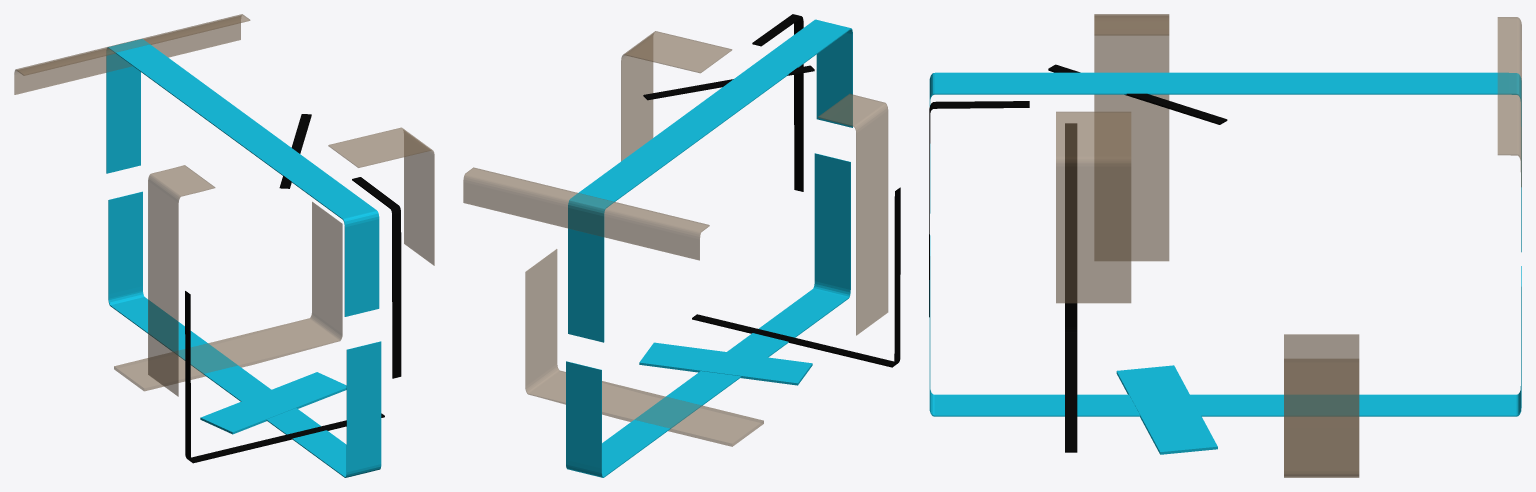
File: tape_open_6.fbx
3 renders of one model, left to right at view 1: azimuth 30°, elevation 25°; view 2: azimuth 150°, elevation 25°; view 3: azimuth 270°, elevation 25°, orthographic. The views are drawn at different scales.
Visible parts, largest first — view 1: tape_0.019, 평면.075, 평면.071, 평면.054, 평면.072, 평면.077, 평면.074, 평면.073, 평면.076; view 2: tape_0.019, 평면.075, 평면.072, 평면.071, 평면.054, 평면.077, 평면.073, 평면.074, 평면.076; view 3: tape_0.019, 평면.071, 평면.054, 평면.075, 평면.077, 평면.073, 평면.072, 평면.074, 평면.076.
Boxes of the visible parts, bbox=[...] form: tape_0.019: bbox=[106, 39, 381, 477]; 평면.075: bbox=[114, 202, 342, 391]; 평면.071: bbox=[148, 165, 215, 396]; 평면.054: bbox=[328, 127, 434, 265]; 평면.072: bbox=[14, 14, 250, 94]; 평면.077: bbox=[200, 372, 346, 434]; 평면.074: bbox=[352, 177, 401, 378]; 평면.073: bbox=[185, 291, 384, 463]; 평면.076: bbox=[279, 114, 311, 188]; tape_0.019: bbox=[566, 19, 852, 477]; 평면.075: bbox=[525, 249, 763, 446]; 평면.072: bbox=[463, 167, 709, 260]; 평면.071: bbox=[818, 94, 888, 335]; 평면.054: bbox=[621, 31, 731, 161]; 평면.077: bbox=[639, 342, 812, 385]; 평면.073: bbox=[692, 187, 900, 367]; 평면.074: bbox=[752, 14, 803, 191]; 평면.076: bbox=[643, 65, 814, 100]; tape_0.019: bbox=[929, 72, 1521, 416]; 평면.071: bbox=[1094, 14, 1169, 261]; 평면.054: bbox=[1056, 111, 1131, 303]; 평면.075: bbox=[1284, 334, 1359, 477]; 평면.077: bbox=[1116, 365, 1217, 454]; 평면.073: bbox=[1065, 123, 1077, 452]; 평면.072: bbox=[1497, 17, 1521, 187]; 평면.074: bbox=[929, 101, 1029, 317]; 평면.076: bbox=[1048, 64, 1227, 124].
Bounding box in the file's own units: 146 × 152 × 251.
